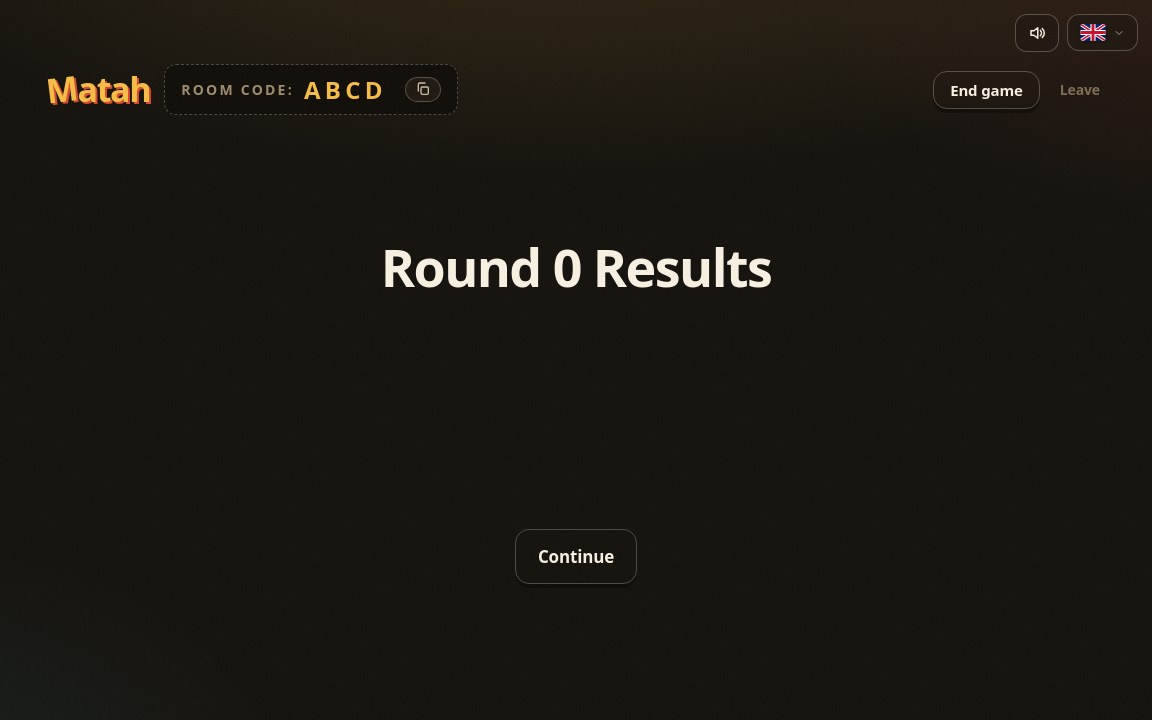
Test: HostScreen › surfaces a refused command rather than failing silently
The width and height of the screenshot is (1152, 720).
Click the button "Continue": click(576, 556) [515,529,637,584]
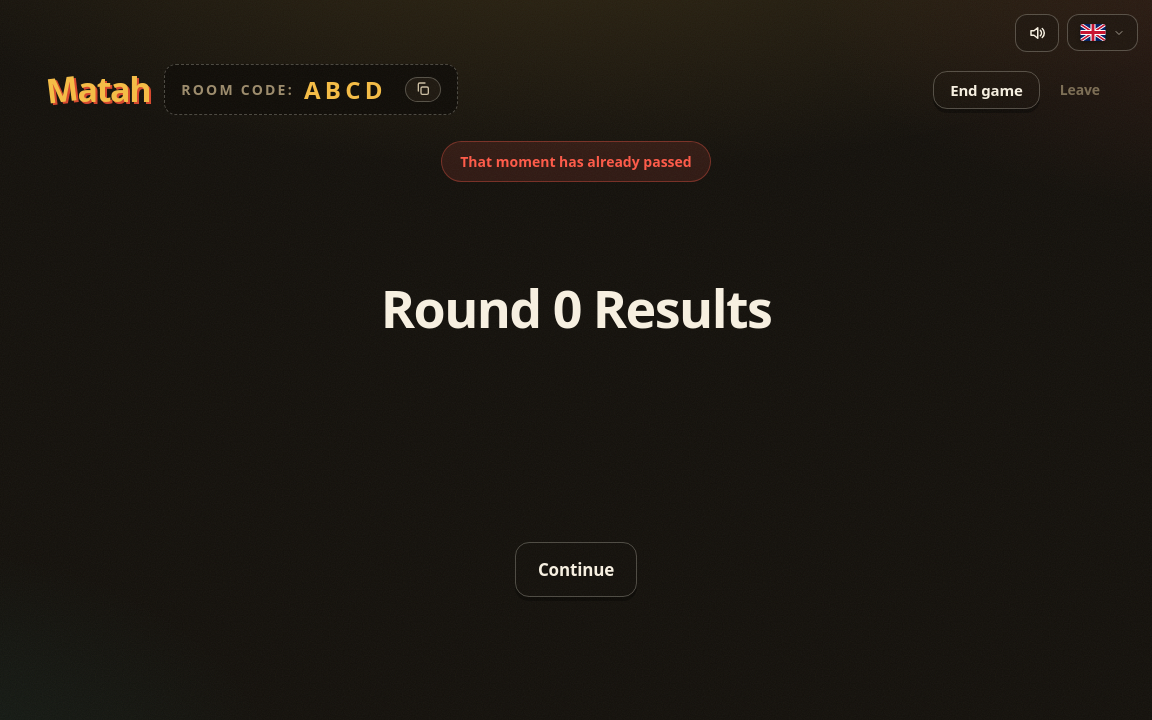
Now the message shows "already passed", box [460,152,692,171]
